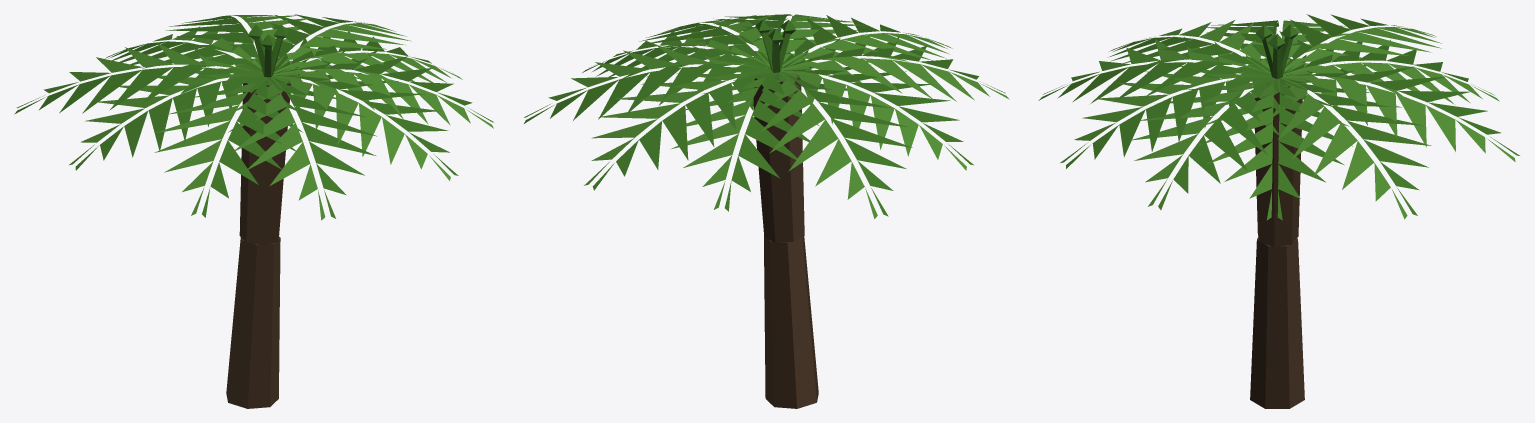
Rendered from tree_fern.glb.
The picture shows the model from 3 angles, left to right: view 1: azimuth 30°, elevation 25°; view 2: azimuth 150°, elevation 25°; view 3: azimuth 270°, elevation 25°; orthographic projection. The views are drawn at different scales.
Visible parts, largest first — view 1: tree_fern2; view 2: tree_fern2; view 3: tree_fern2.
Part boxes in pixels (<box>): tree_fern2: <box>14,14,493,408</box>; tree_fern2: <box>524,14,1009,408</box>; tree_fern2: <box>1038,14,1519,408</box>.
Size of the model in its own units: 4.55 by 4.17 by 4.8.
